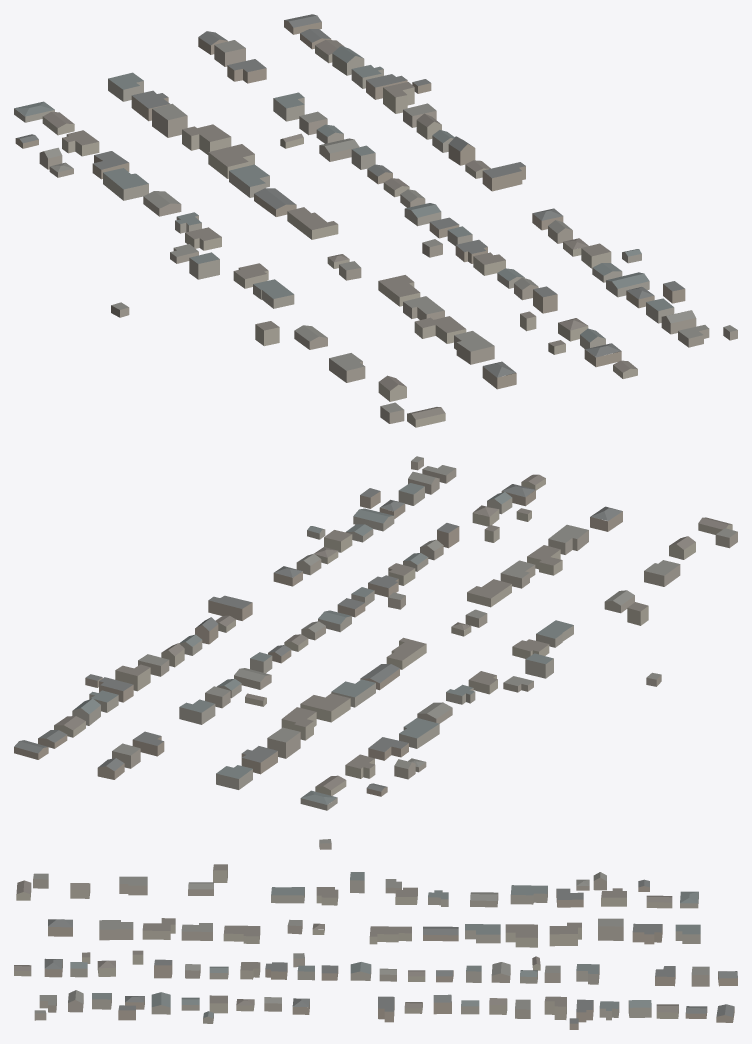
The model's file is d26ee18cb83d-chunk-1197_11845.glb.
3 renders of one model, top to bottom at view 1: azimuth 30°, elevation 25°; view 2: azimuth 150°, elevation 25°; view 3: azimuth 270°, elevation 25°, orthographic. The views are drawn at different scales.
Parts seen in each view (by area): view 1: building_21985, building_98167, building_63570, building_84643, building_48997, building_26625, building_73993, building_54283, building_79061, building_119490, building_169775, building_7974 (+14 smaller); view 2: building_48997, building_98167, building_84643, building_119490, building_73993, building_63570, building_21985, building_26625, building_54283, building_58899, building_79061, building_7974 (+13 smaller); view 3: building_48997, building_98167, building_63570, building_21985, building_84643, building_79061, building_119490, building_26625, building_54283, building_58899, building_169775, building_7974 (+33 smaller).
Part boxes in pixels (box(x1,y1,x2,y2)): building_21985: box(182, 124, 231, 154); building_98167: box(103, 168, 148, 200); building_63570: box(287, 207, 338, 239); building_84643: box(454, 331, 494, 364); building_48997: box(208, 144, 254, 178); building_26625: box(414, 316, 466, 343); building_73993: box(482, 162, 525, 191); building_54283: box(152, 103, 187, 137); building_79061: box(229, 164, 269, 197); building_119490: box(378, 275, 420, 306); building_169775: box(253, 279, 294, 308); building_7974: box(329, 353, 365, 382); building_48997: box(300, 693, 350, 722); building_98167: box(399, 718, 439, 748); building_84643: box(548, 524, 588, 554); building_119490: box(467, 579, 511, 607); building_73993: box(208, 595, 252, 620); building_63570: box(386, 637, 426, 669); building_21985: box(281, 707, 316, 740); building_26625: box(527, 545, 562, 575); building_54283: box(267, 727, 300, 758); building_58899: box(241, 746, 277, 774); building_79061: box(331, 679, 375, 707); building_7974: box(644, 560, 680, 586); building_48997: box(505, 924, 537, 947); building_98167: box(510, 885, 547, 904); building_63570: box(369, 926, 411, 944); building_21985: box(549, 922, 581, 946); building_84643: box(99, 920, 133, 940); building_79061: box(465, 924, 500, 943); building_119490: box(223, 925, 260, 943); building_26625: box(142, 918, 175, 939); building_54283: box(598, 918, 623, 940); building_58899: box(632, 923, 662, 944); building_169775: box(271, 887, 304, 903); building_7974: box(119, 876, 147, 895).
Bounding box in the file's own units: 237 × 9.66 × 393.
